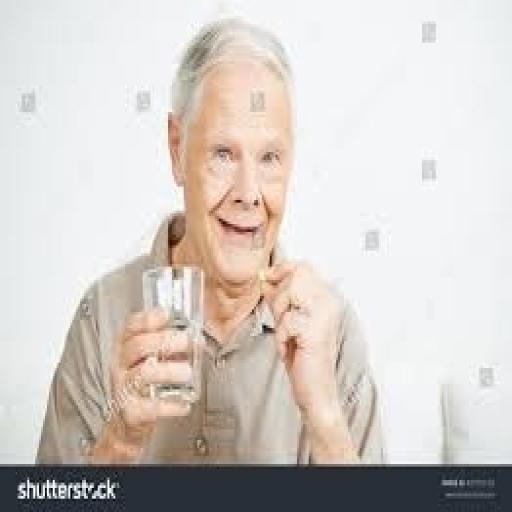drinking: (141, 262, 203, 406)
